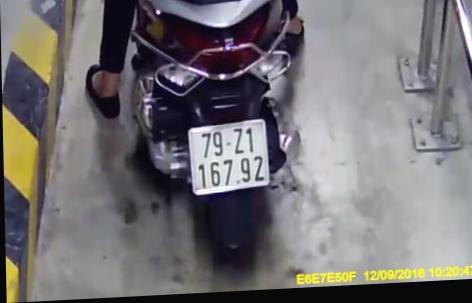License_Plate: (184, 115, 282, 200)
